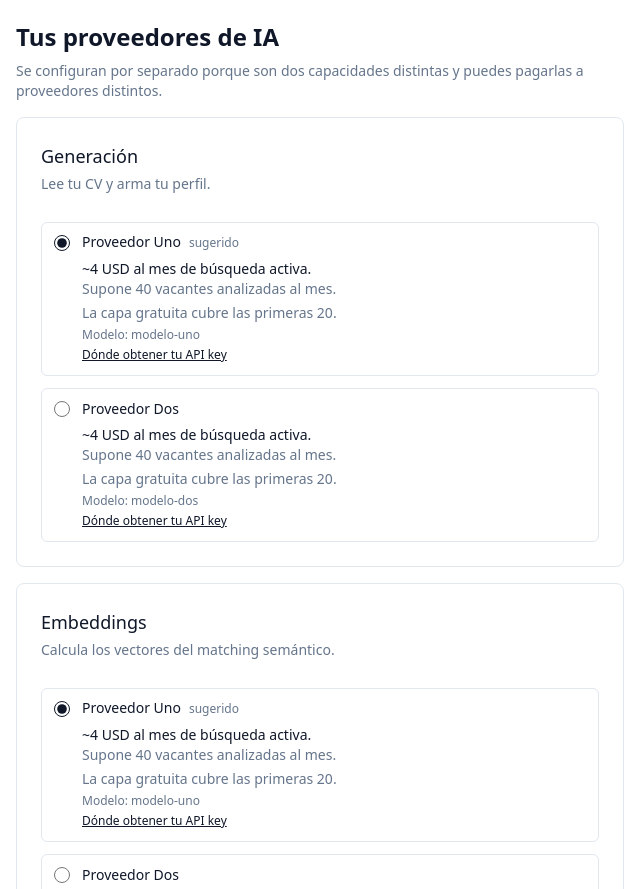
Test case: el mismo proveedor para las dos capacidades (FR-004, US1 AC4) › pide una llave por capacidad en cuanto los proveedores difieren
Click the radio button labelled "Proveedor Dos" below "Embeddings" at (62, 875), box [54,867,70,883]
(page scrolled)
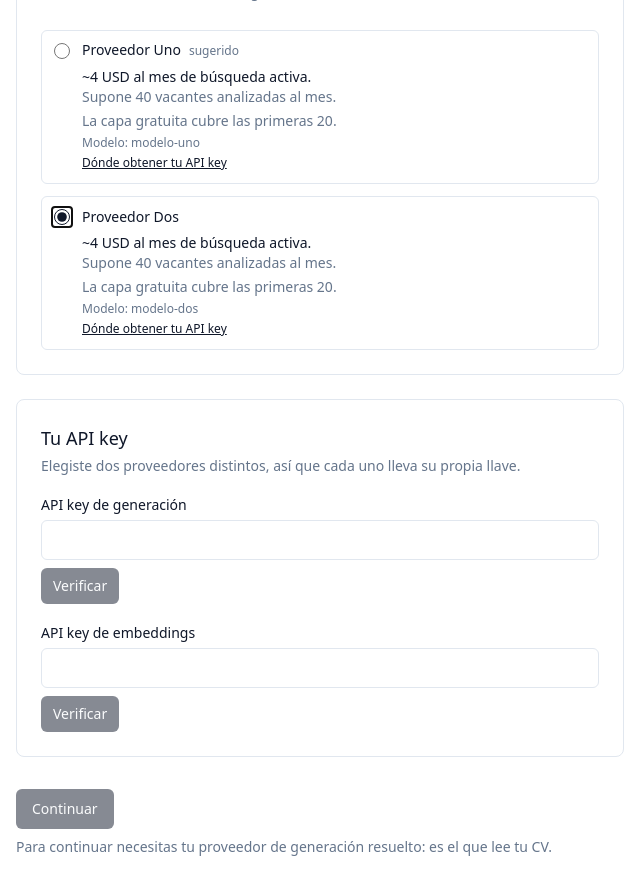
Now the password field labelled "API key de generación" is shown, box [41,520,599,560]
Now the password field labelled "API key de embeddings" is shown, box [41,648,599,688]
